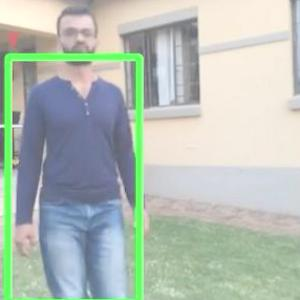follow: (33, 4, 133, 299)
